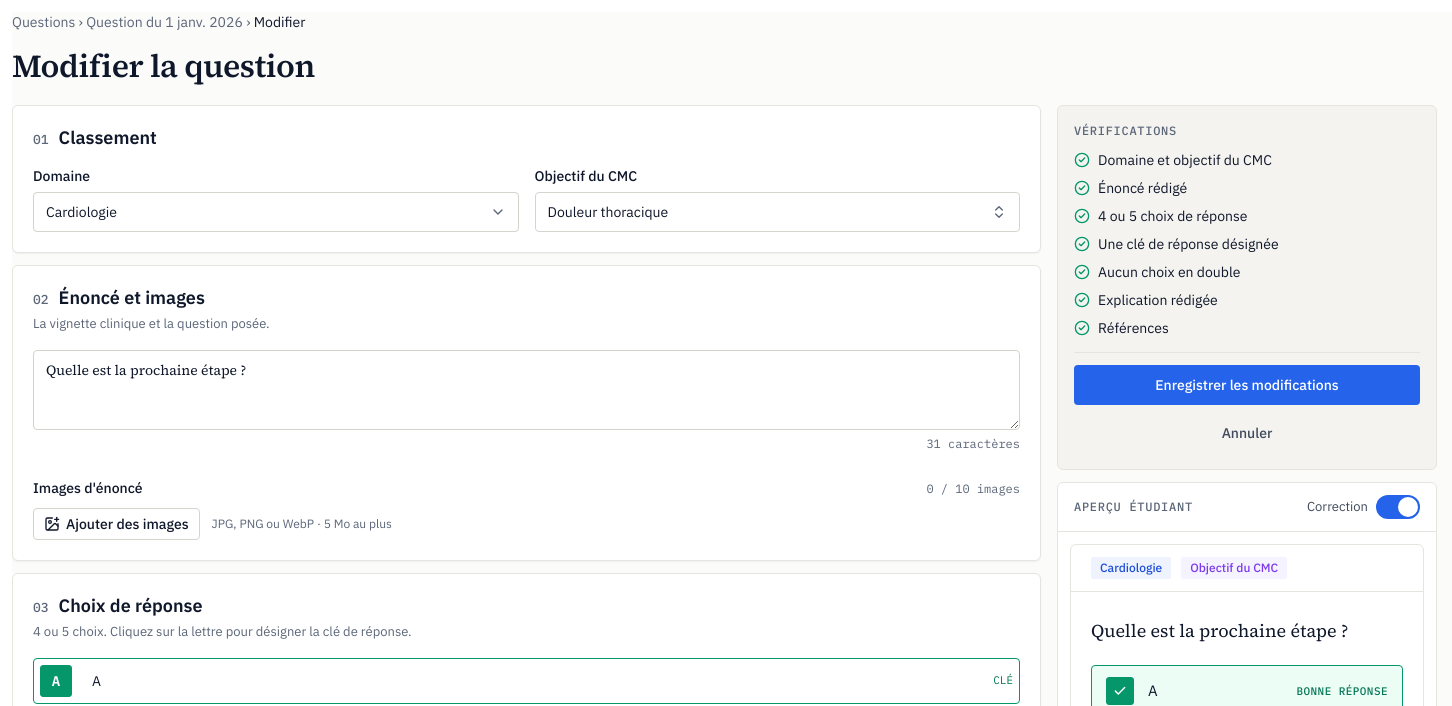
Scenario: QuestionForm — édition › une erreur serveur s'affiche et ne quitte pas la page
What coordinates should you click on to do the following:
click the button with test id "btn-save-question"
I would click on:
 (1247, 385)
Its box is [1074,365,1420,405].
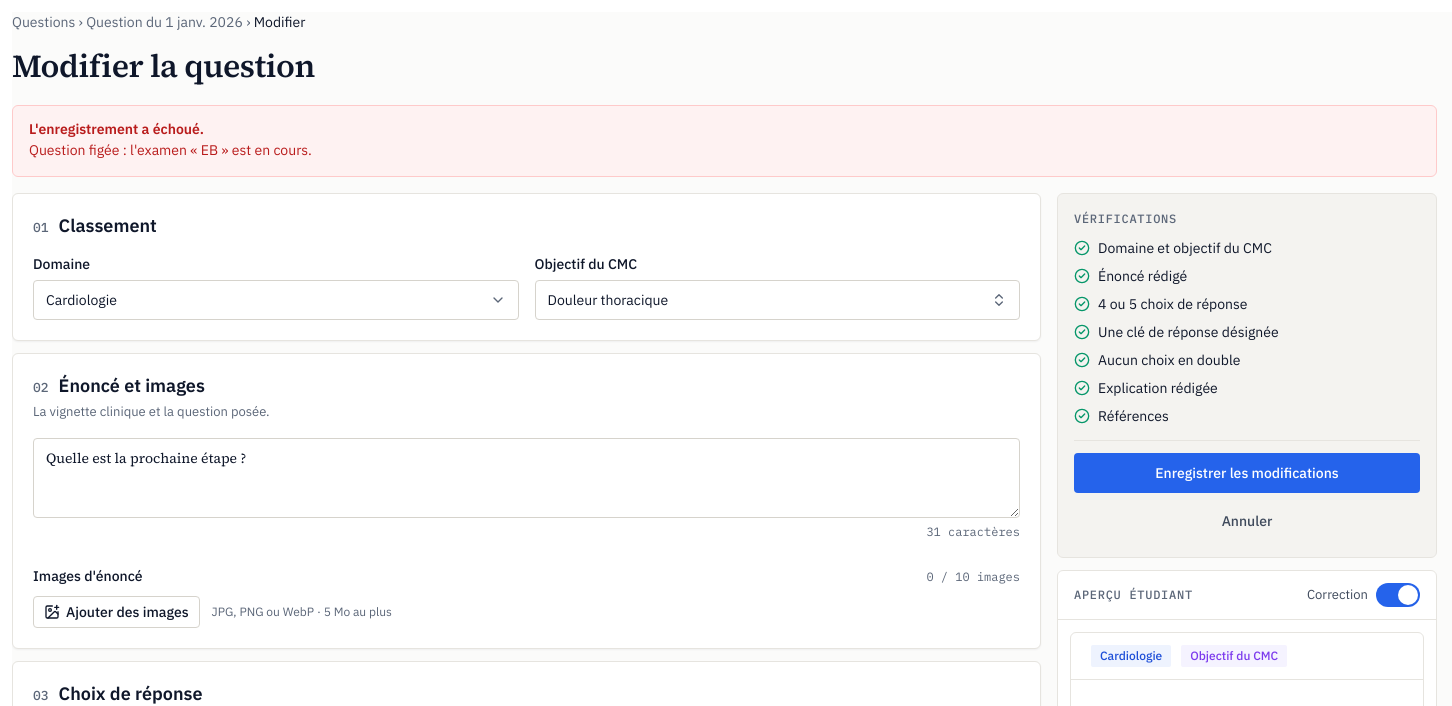
Now the message with test id "save-error" shows "l'examen « EB » est en cours", box [29,141,312,159]
